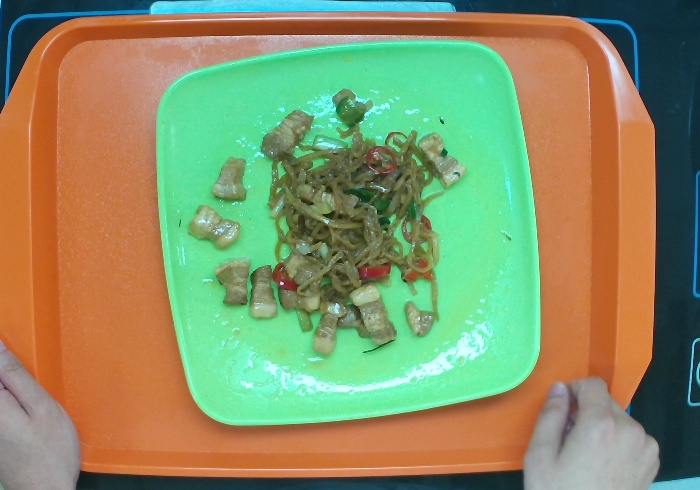ZNLD-Lv_Fang_Pan: (148, 26, 550, 432)
